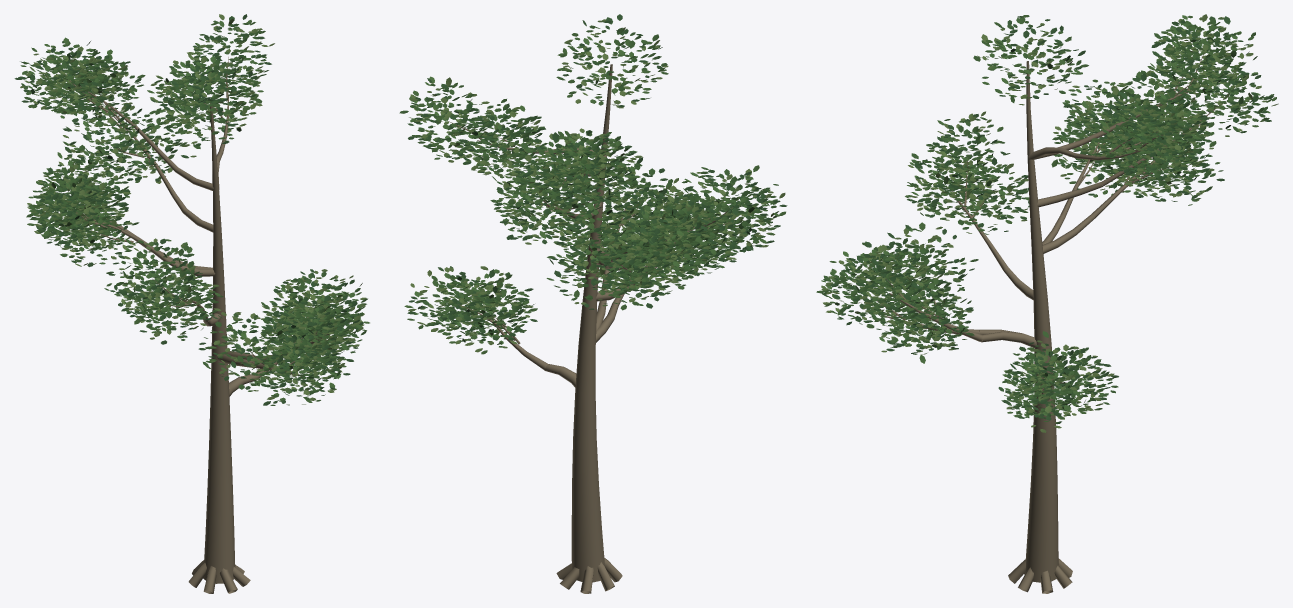
File: Chene_Ancien_2_High.fbx
3 views of the same model, side by side, from view 1: azimuth 30°, elevation 25°; view 2: azimuth 150°, elevation 25°; view 3: azimuth 270°, elevation 25° (orthographic). The views are drawn at different scales.
Visible parts, largest first — view 1: Chene_Ancien_2_High; view 2: Chene_Ancien_2_High; view 3: Chene_Ancien_2_High.
Part boxes in pixels (x1,y1,x2,y2): Chene_Ancien_2_High: [14, 14, 369, 593]; Chene_Ancien_2_High: [399, 14, 787, 593]; Chene_Ancien_2_High: [816, 14, 1278, 593].
Bounding box in the file's own units: 698 × 1141 × 860.
